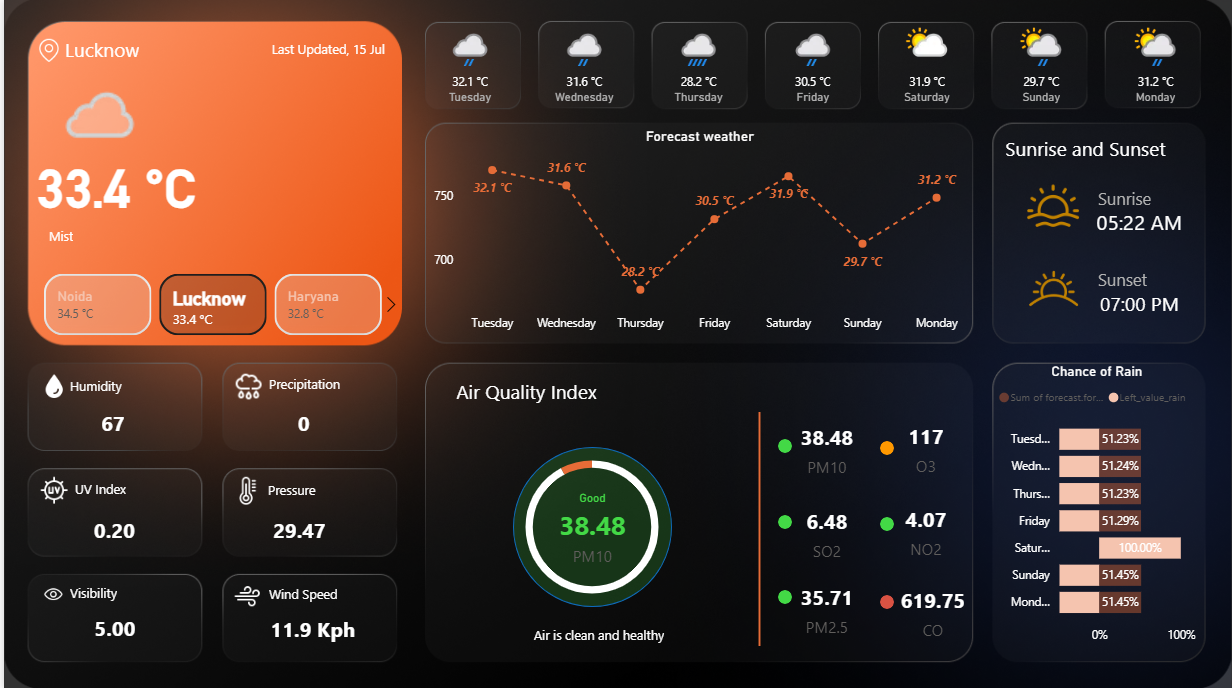

The page's visual inventory and layout, read from the dashboard file:
{"tool":"powerbi","page":{"name":"Page 1","canvas":[1280,720],"ordinal":0},"visuals":[{"type":"shape","box":[530.2,466.7,165.6,166.7],"z":0},{"type":"advancedSlicerVisual","fields":{"Values":["Location.location.name"]},"box":[16.7,281.1,402.2,74.4],"z":1000},{"type":"card","fields":{"Values":["_Measures.Curr_Temp_C"]},"box":[26.7,151.1,180,80],"z":2000},{"type":"shape","box":[46.7,231.2,235.6,31.1],"z":3000},{"type":"shape","box":[63.3,36.7,117.8,31.1],"z":4000},{"type":"shape","box":[247.8,36.7,148.9,31.1],"z":5000},{"type":"image","box":[21.1,36.7,52.2,34.4],"z":6000},{"type":"cardVisual","fields":{"Data":["Min(current.current.condition.icon)"]},"box":[21.1,54.4,138.9,101.1],"z":7000},{"type":"image","box":[31.7,385.5,42.1,35.9],"z":8000},{"type":"shape","box":[69,387.6,149,31],"z":9000},{"type":"image","box":[233.1,380,42.8,46.9],"z":10000},{"type":"shape","box":[275.9,385.5,149,31],"z":11000},{"type":"image","box":[233.1,493.1,41.4,39.3],"z":12000},{"type":"shape","box":[274.5,495.9,149,31],"z":13000},{"type":"image","box":[35.2,600.7,31.7,37.9],"z":14000},{"type":"shape","box":[68.3,603.4,149,31],"z":15000},{"type":"image","box":[31.7,491.7,42.1,40],"z":16000},{"type":"shape","box":[73.8,495.2,149,31],"z":17000},{"type":"image","box":[233.1,603.4,40.7,37.9],"z":18000},{"type":"shape","box":[275.9,604.1,149,31],"z":19000},{"type":"card","fields":{"Values":["Sum(current.current.humidity)"]},"box":[83.3,420.8,60.4,45.8],"z":20000},{"type":"card","fields":{"Values":["Sum(current.current.precip_in)"]},"box":[282.3,420.8,60.4,45.8],"z":21000},{"type":"card","fields":{"Values":["Sum(current.current.uv)"]},"box":[82.3,532.3,65.6,45.8],"z":22000},{"type":"card","fields":{"Values":["Sum(current.current.vis_km)"]},"box":[75,634.4,81.2,45.8],"z":23000},{"type":"card","fields":{"Values":["_Measures.Wind_Speed"]},"box":[260.4,635.4,122.9,45.8],"z":24000},{"type":"card","fields":{"Values":["Sum(current.current.pressure_in)"]},"box":[275,532.3,65.6,45.8],"z":25000},{"type":"advancedSlicerVisual","fields":{"Values":["Forecast_days.Forecast_day"]},"box":[425,16.7,835.4,118.8],"z":26000},{"type":"lineChart","title":"Forecast weather","fields":{"Category":["Forecast_days.Forecast_day"],"Y":["Sum(Forecast_days.forecast.forecastday.day.avgtemp_c)"]},"box":[442.7,135.4,564.6,219.8],"z":27000},{"type":"shape","box":[1038.5,136.5,176,37.5],"z":28000},{"type":"shape","box":[1127.1,207.3,111.5,49],"z":29000},{"type":"shape","box":[1127.1,291.7,111.5,49],"z":30000},{"type":"shape","box":[1139.6,182.3,111.5,49],"z":31000},{"type":"shape","box":[1139.6,266.7,111.5,49],"z":32000},{"type":"image","box":[970.8,183.3,243.8,63.5],"z":33000},{"type":"image","box":[936.5,262.5,314.6,78.1],"z":34000},{"type":"hundredPercentStackedBarChart","title":"Chance of Rain","fields":{"Y":["Sum(Forecast_days.forecast.forecastday.day.daily_chance_of_rain)","current.Left_value_rain"],"Category":["Forecast_days.Forecast_day"]},"box":[1031.2,380.2,214.6,300],"z":35000},{"type":"shape","box":[456.2,389.6,176,37.5],"z":36000},{"type":"card","fields":{"Values":["Sum(current.current.air_quality.pm10)"]},"box":[809.4,437.5,95.8,62.5],"z":37000},{"type":"card","fields":{"Values":["Sum(current.current.air_quality.no2)"]},"box":[912.5,522.9,95.8,62.5],"z":38000},{"type":"card","fields":{"Values":["Sum(current.current.air_quality.co)"]},"box":[919.7,607.3,95.8,62.5],"z":39000},{"type":"card","fields":{"Values":["Sum(current.current.air_quality.o3)"]},"box":[912.5,436.5,95.8,62.5],"z":40000},{"type":"card","fields":{"Values":["Sum(current.current.air_quality.so2)"]},"box":[809.4,525,95.8,62.5],"z":41000},{"type":"card","fields":{"Values":["Sum(current.current.air_quality.pm2_5)"]},"box":[809,603.7,95.8,62.5],"z":42000},{"type":"shape","box":[806.3,458.3,14.6,14.6],"z":43000},{"type":"shape","box":[806.3,537.5,14.6,14.6],"z":44000},{"type":"shape","box":[806.3,615.6,14.6,14.6],"z":45000},{"type":"shape","box":[912.5,460.4,14.6,14.6],"z":46000},{"type":"shape","box":[912.5,539.6,14.6,14.6],"z":47000},{"type":"shape","box":[912.5,620.8,14.6,14.6],"z":48000},{"type":"shape","box":[699,430.2,176,243.8],"z":49000},{"type":"donutChart","fields":{"Y":["_Measures.Left_Value_PM10","Sum(current.current.air_quality.pm10)"]},"box":[508.3,458.3,208.3,183.3],"z":49500},{"type":"card","fields":{"Values":["Sum(current.current.air_quality.pm10)"]},"box":[568.8,512.5,88.5,80.2],"z":50000},{"type":"shape","box":[514.6,643.8,210.4,37.5],"z":50001}]}

Visuals, with their boxes in screenshot pixels (x1, y1, x2, y2), scaled from the page's 1280x720 canvas onto the 1232x688 screenshot:
shape: (510,446,670,605)
advancedSlicerVisual - Location.location.name: (16,269,403,340)
card - _Measures.Curr_Temp_C: (26,144,199,221)
shape: (45,221,272,251)
shape: (61,35,174,65)
shape: (239,35,382,65)
image: (20,35,71,68)
cardVisual - Min(current.current.condition.icon): (20,52,154,149)
image: (31,368,71,403)
shape: (66,370,210,400)
image: (224,363,266,408)
shape: (266,368,409,398)
image: (224,471,264,509)
shape: (264,474,408,503)
image: (34,574,64,610)
shape: (66,577,209,606)
image: (31,470,71,508)
shape: (71,473,214,503)
image: (224,577,264,613)
shape: (266,577,409,607)
card - Sum(current.current.humidity): (80,402,138,446)
card - Sum(current.current.precip_in): (272,402,330,446)
card - Sum(current.current.uv): (79,509,142,552)
card - Sum(current.current.vis_km): (72,606,150,650)
card - _Measures.Wind_Speed: (251,607,369,651)
card - Sum(current.current.pressure_in): (265,509,328,552)
advancedSlicerVisual - Forecast_days.Forecast_day: (409,16,1213,129)
"Forecast weather" lineChart: (426,129,970,339)
shape: (1000,130,1169,166)
shape: (1085,198,1192,245)
shape: (1085,279,1192,326)
shape: (1097,174,1204,221)
shape: (1097,255,1204,302)
image: (934,175,1169,236)
image: (901,251,1204,325)
"Chance of Rain" hundredPercentStackedBarChart: (993,363,1199,650)
shape: (439,372,608,408)
card - Sum(current.current.air_quality.pm10): (779,418,871,478)
card - Sum(current.current.air_quality.no2): (878,500,970,559)
card - Sum(current.current.air_quality.co): (885,580,977,640)
card - Sum(current.current.air_quality.o3): (878,417,970,477)
card - Sum(current.current.air_quality.so2): (779,502,871,561)
card - Sum(current.current.air_quality.pm2_5): (779,577,871,637)
shape: (776,438,790,452)
shape: (776,514,790,528)
shape: (776,588,790,602)
shape: (878,440,892,454)
shape: (878,516,892,530)
shape: (878,593,892,607)
shape: (673,411,842,644)
donutChart - _Measures.Left_Value_PM10 x Sum(current.current.air_quality.pm10): (489,438,690,613)
card - Sum(current.current.air_quality.pm10): (547,490,633,566)
shape: (495,615,698,651)
